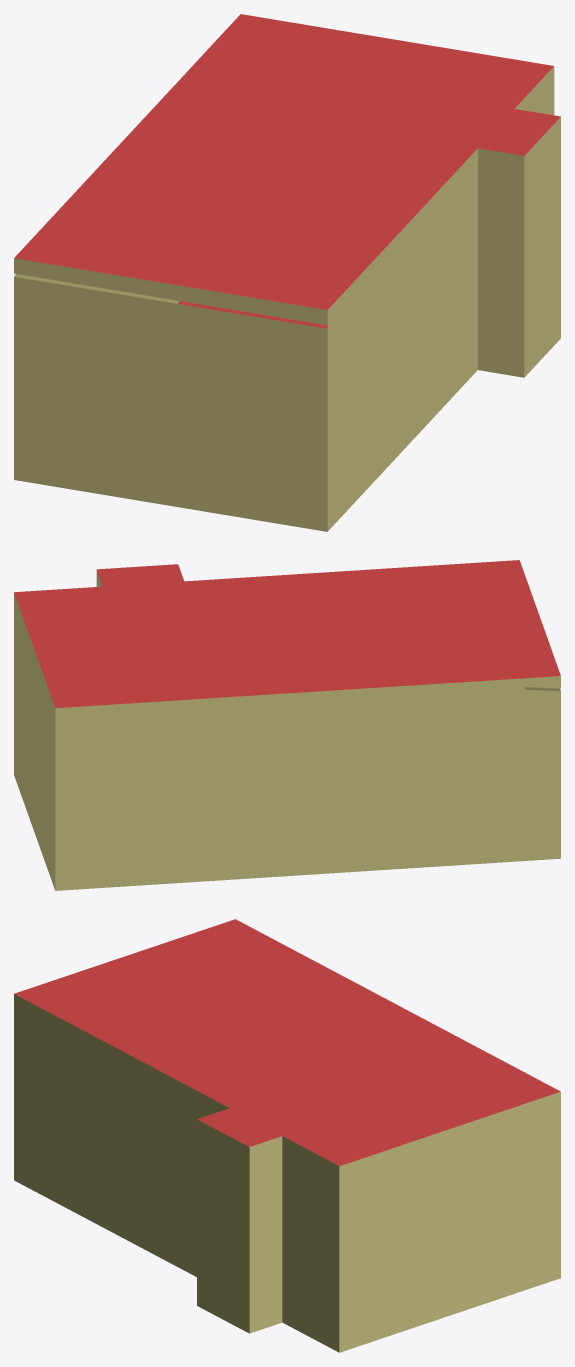
The picture shows the model from 3 angles, top to bottom: view 1: azimuth 30°, elevation 25°; view 2: azimuth 150°, elevation 25°; view 3: azimuth 270°, elevation 25°; orthographic projection. The views are drawn at different scales.
Size of the model in its own units: 19.52 by 18.26 by 6.87.
